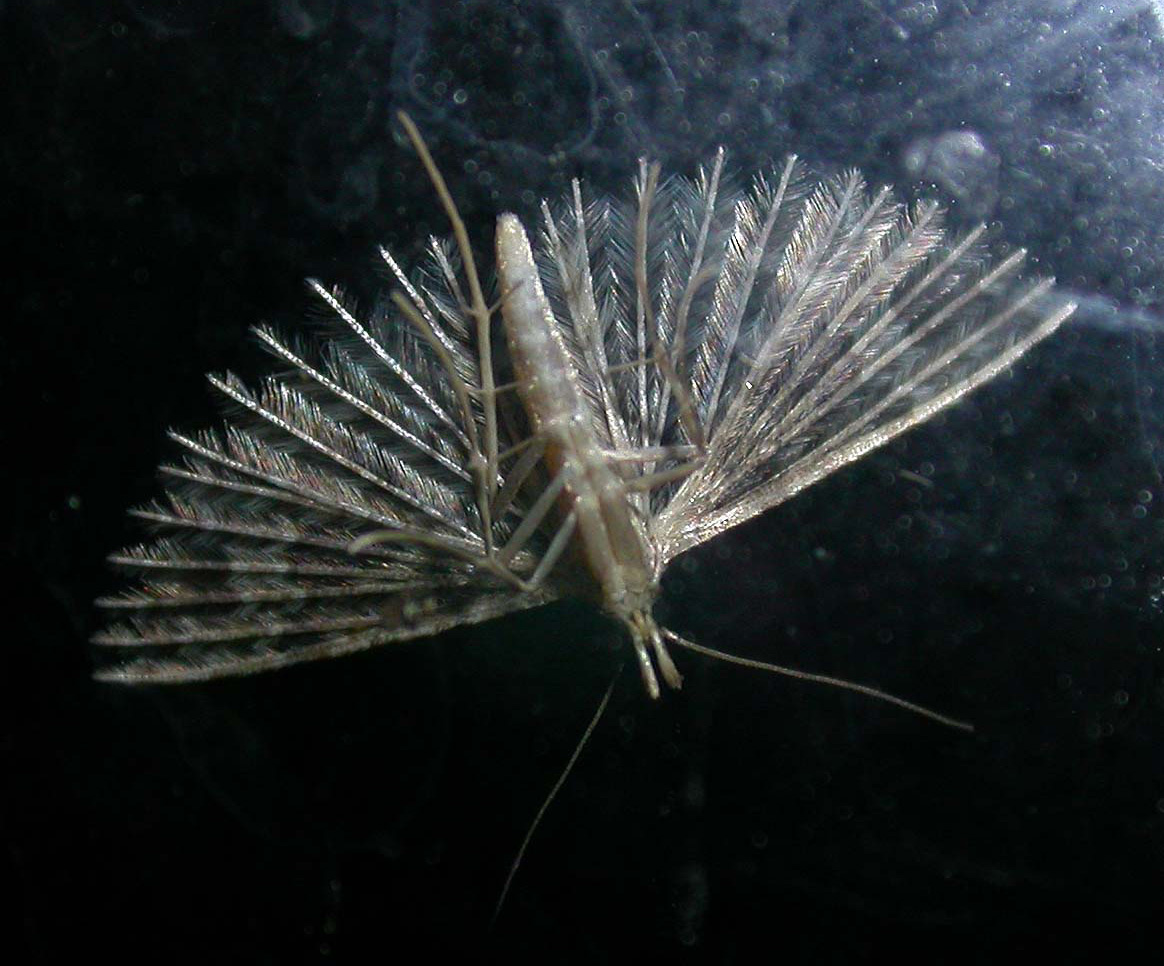Alucitidae: (86, 76, 1086, 929)
moth: (88, 78, 1088, 931)
